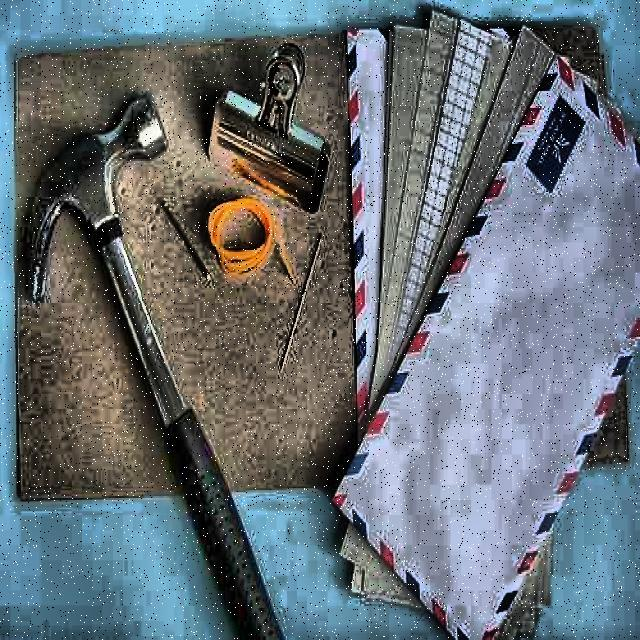hammer: (19, 91, 279, 640)
